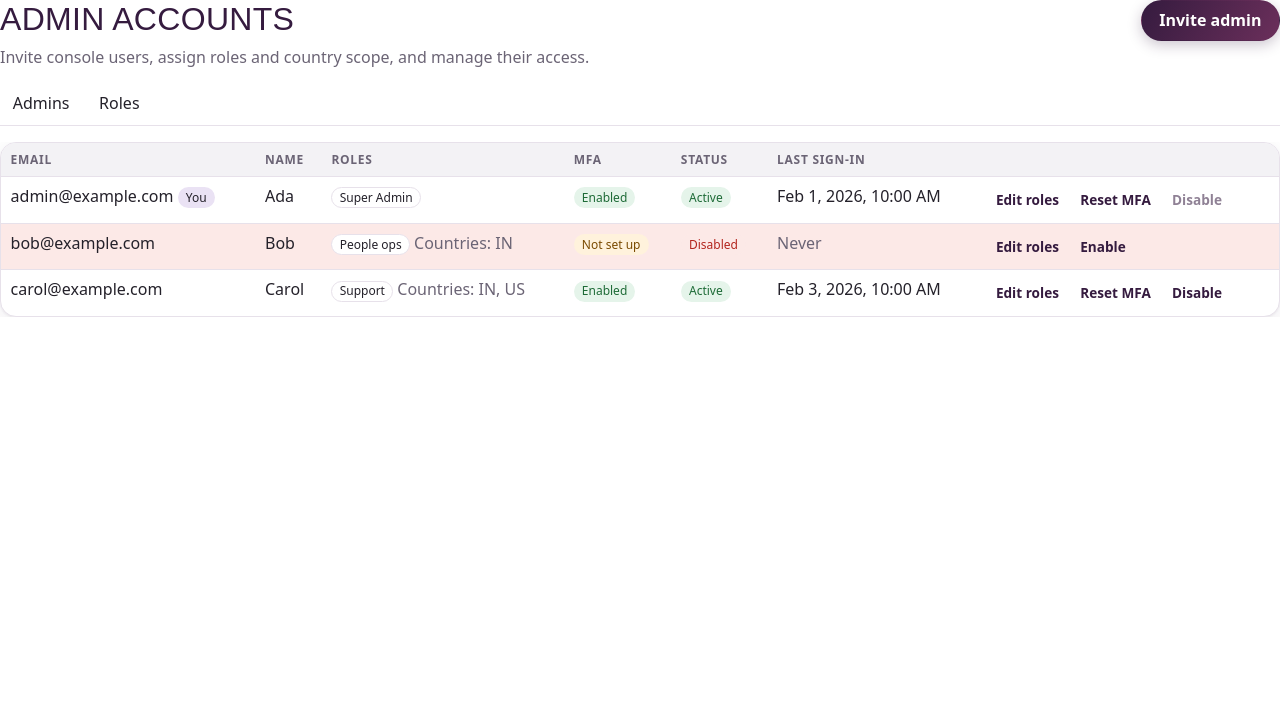
Test: AdminsPage › rejects malformed country codes client-side
Click the button "Invite admin": (1210, 21) [1141, 0, 1279, 41]
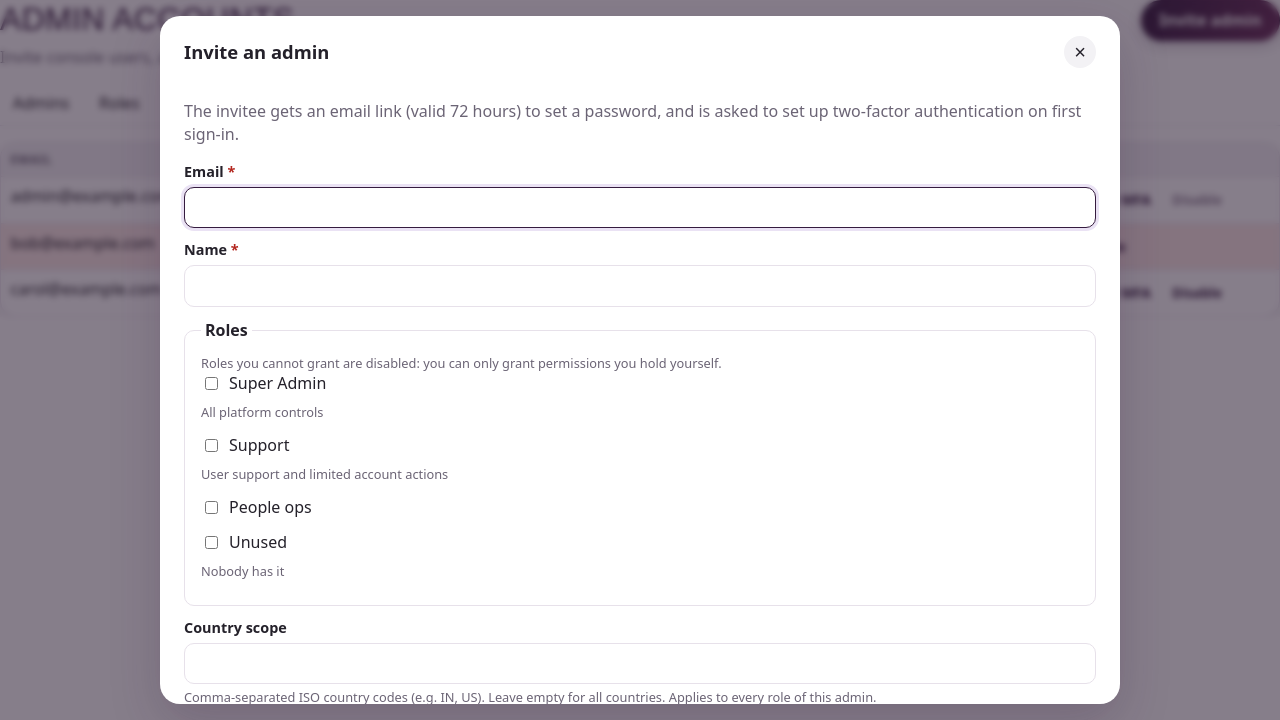
In the field labelled "Email": (640, 208) [184, 187, 1096, 228], type "new@example.com"
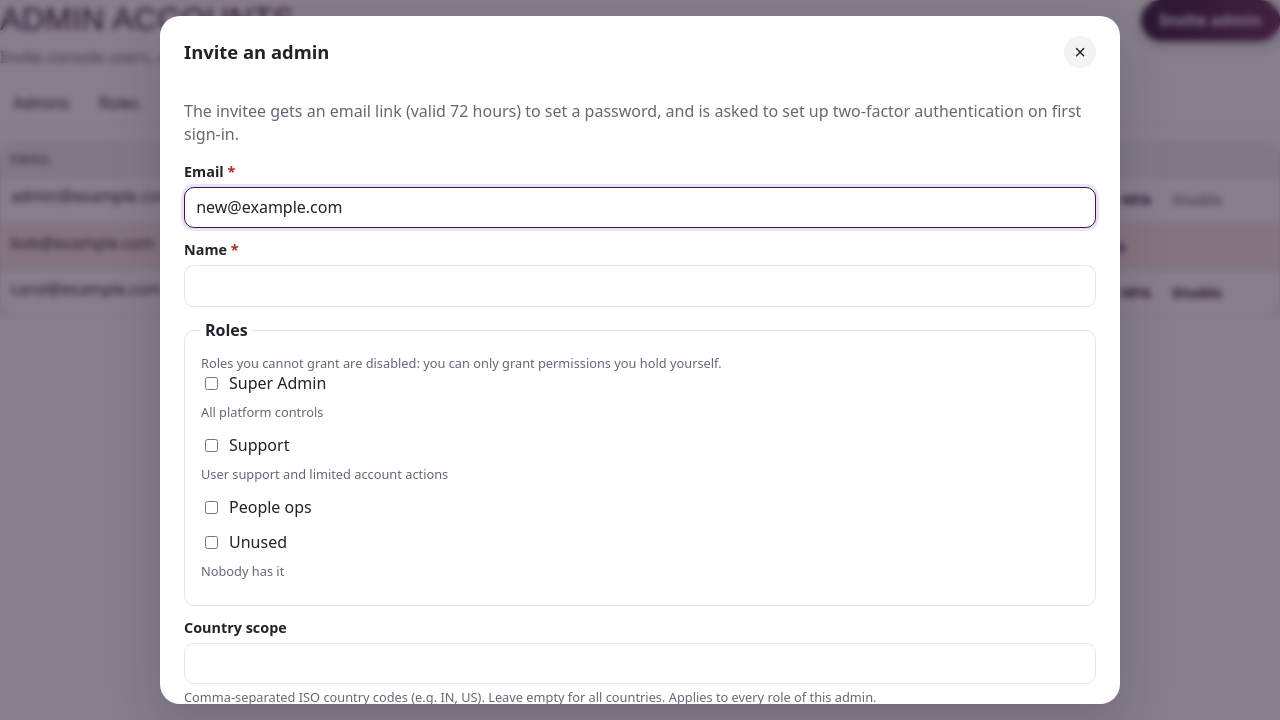
In the field labelled "Name": (640, 286) [184, 265, 1096, 306], type "Nia"
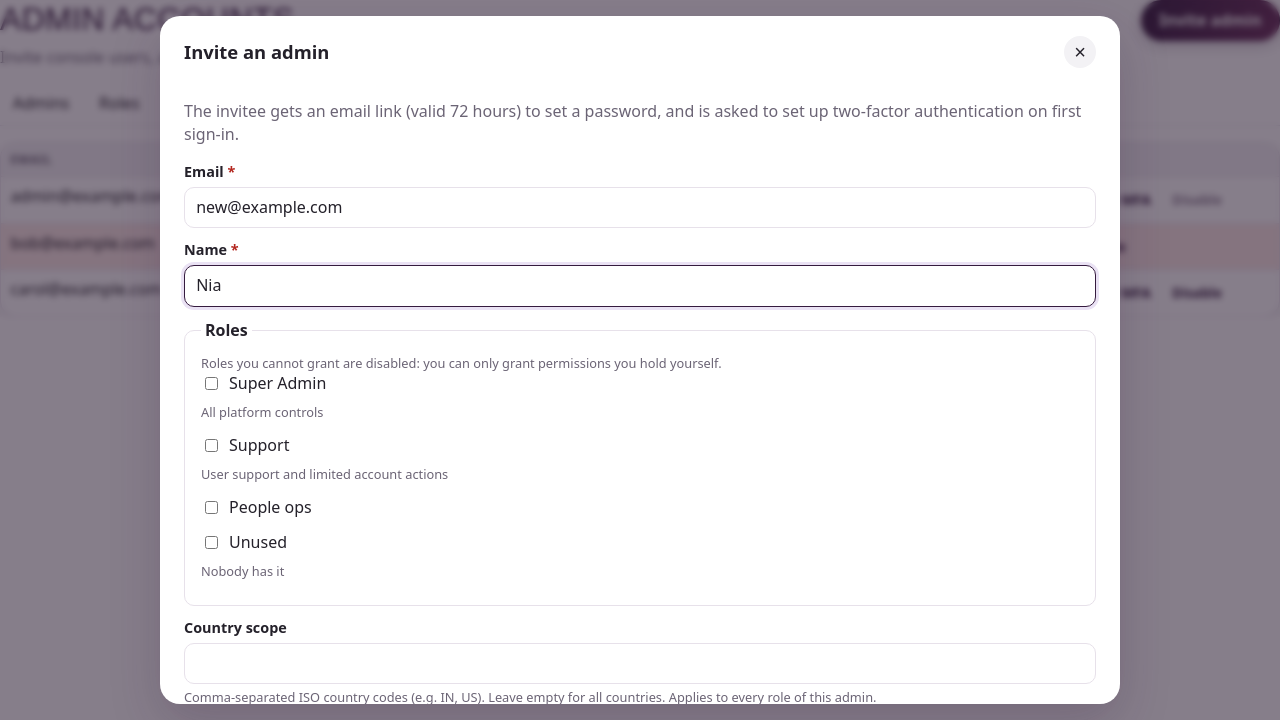
Click the checkbox labelled "Support": (212, 446) [205, 439, 218, 452]
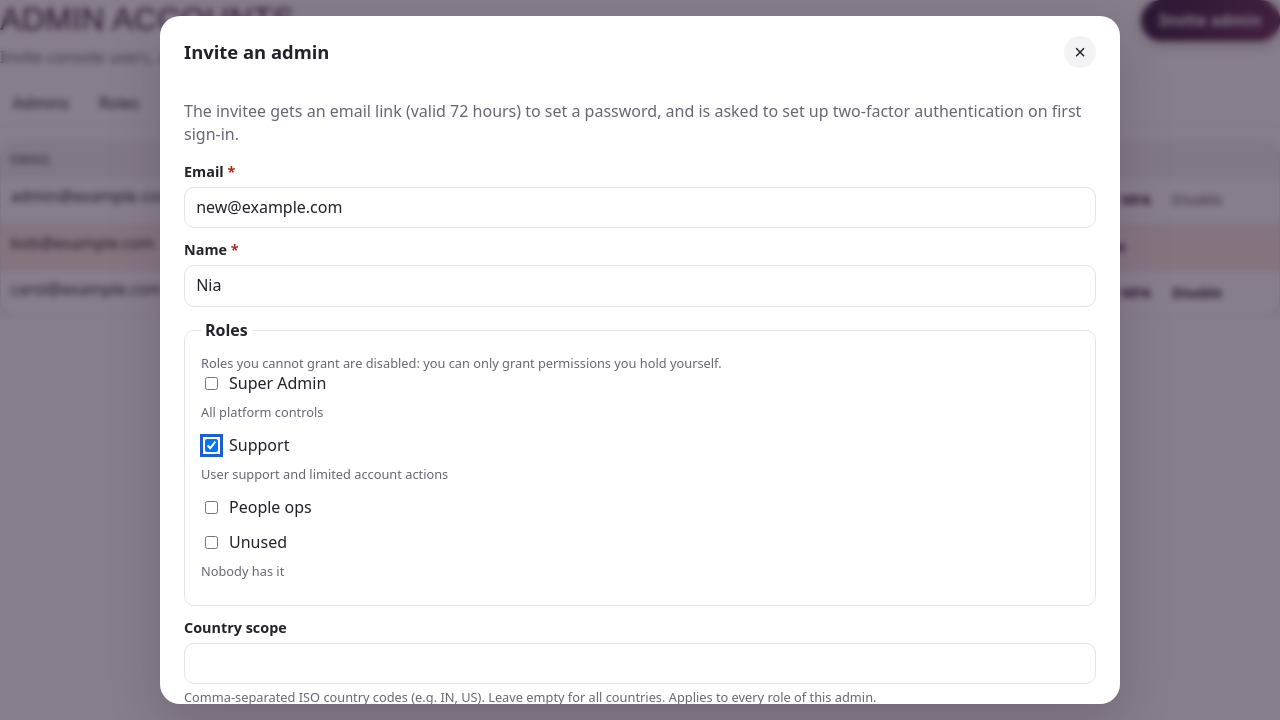
In the field labelled "Country scope": (640, 663) [184, 642, 1096, 684], type "India"
(page scrolled)
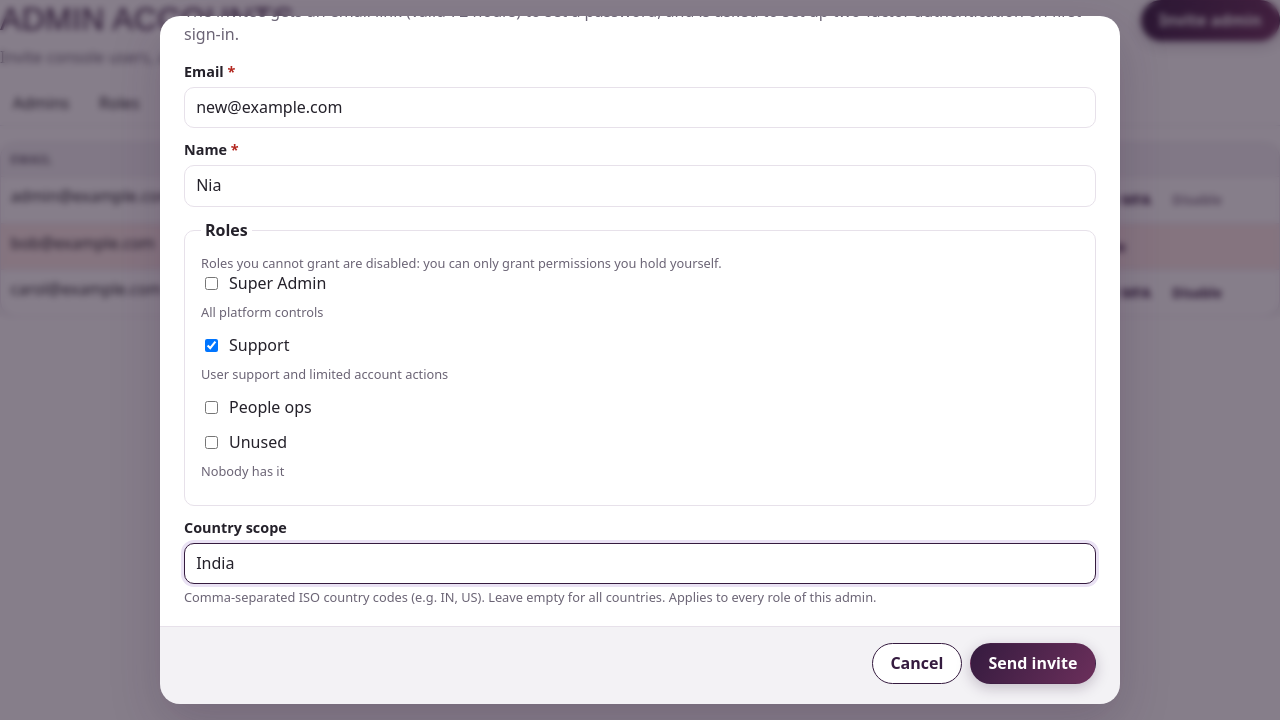
Click the button "Send invite": (1033, 664) [970, 643, 1096, 684]
(page scrolled)
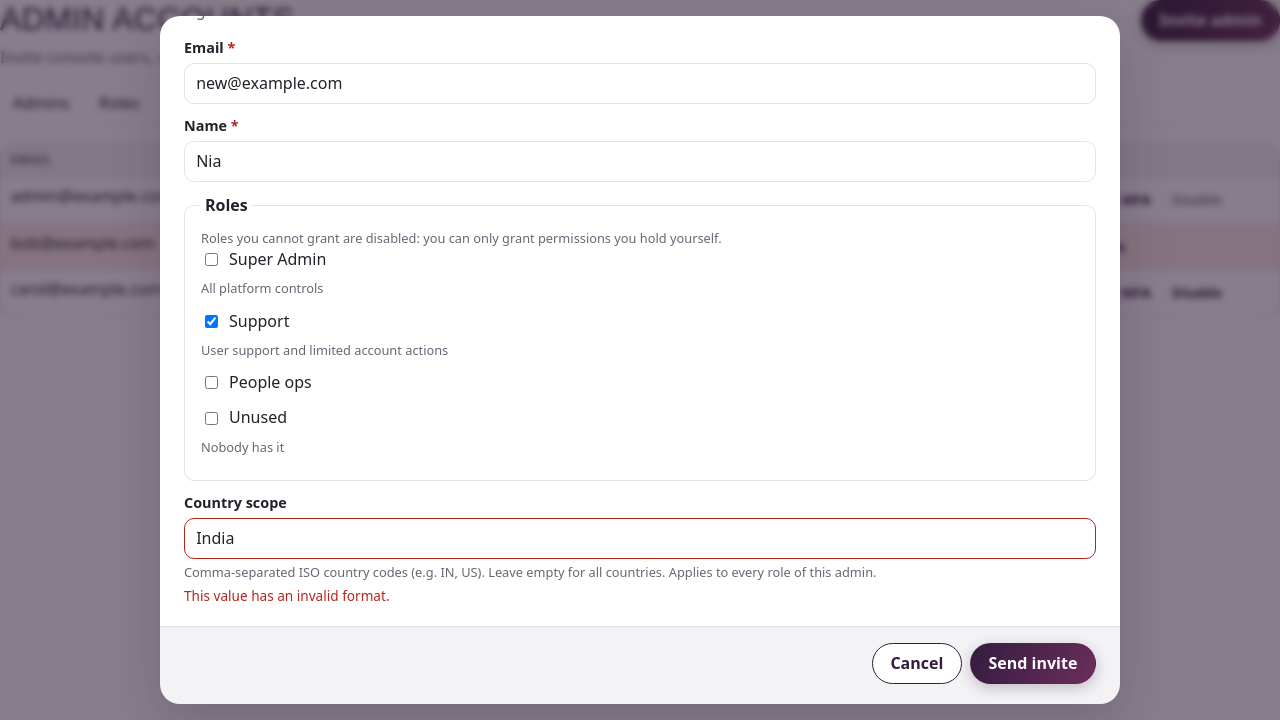
Now the text "This value has an invalid format." is shown, box [184, 586, 390, 605]
